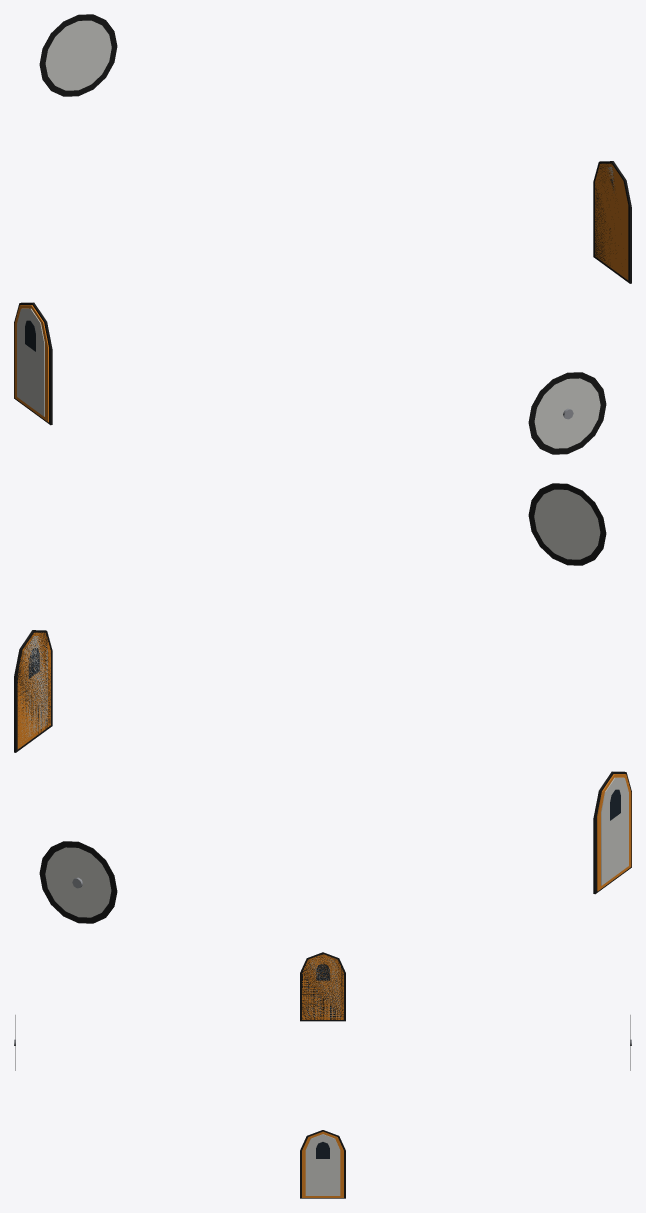
The model's file is bunk500_hatches.obj.
3 renders of one model, top to bottom at view 1: azimuth 30°, elevation 25°; view 2: azimuth 150°, elevation 25°; view 3: azimuth 270°, elevation 25°, orthographic. The views are drawn at different scales.
Parts seen in each view (by area): view 1: bunk500_hatches; view 2: bunk500_hatches; view 3: bunk500_hatches.
Part boxes in pixels (box(x1,y1,x2,y2)): bunk500_hatches: box(14, 14, 631, 454); bunk500_hatches: box(14, 483, 631, 923); bunk500_hatches: box(14, 952, 631, 1198).
Bounding box in the file's own units: 12.36 × 2.97 × 18.
